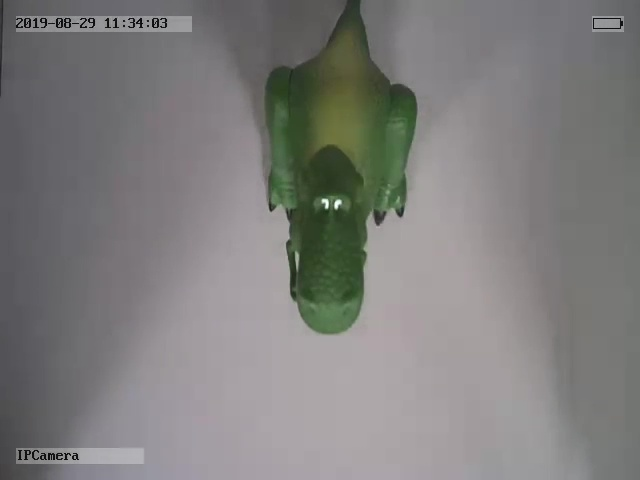rex: (259, 5, 416, 334)
